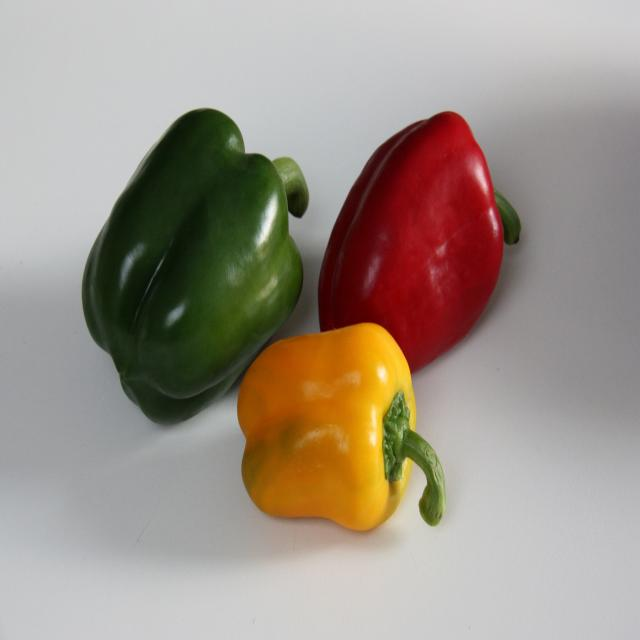pepper: (82, 107, 309, 425), (318, 111, 522, 373), (237, 322, 445, 531)
